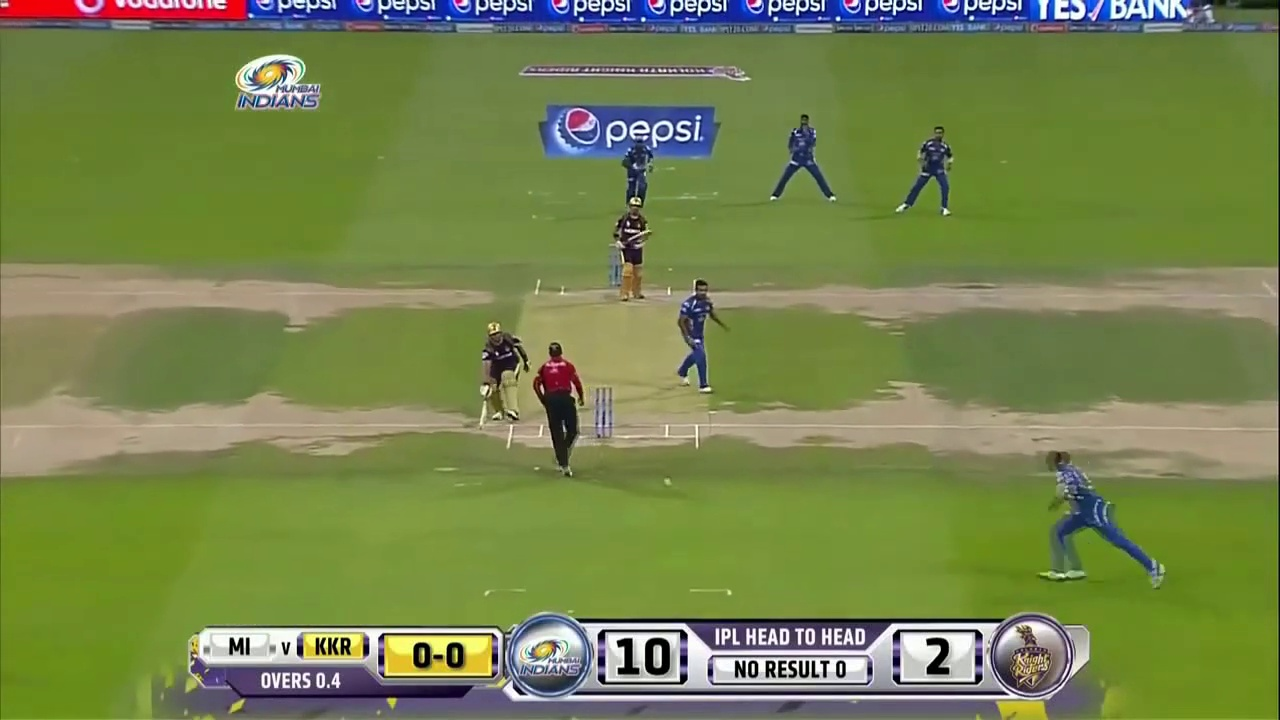bat: (479, 400, 489, 430)
stumps: (594, 383, 613, 438)
